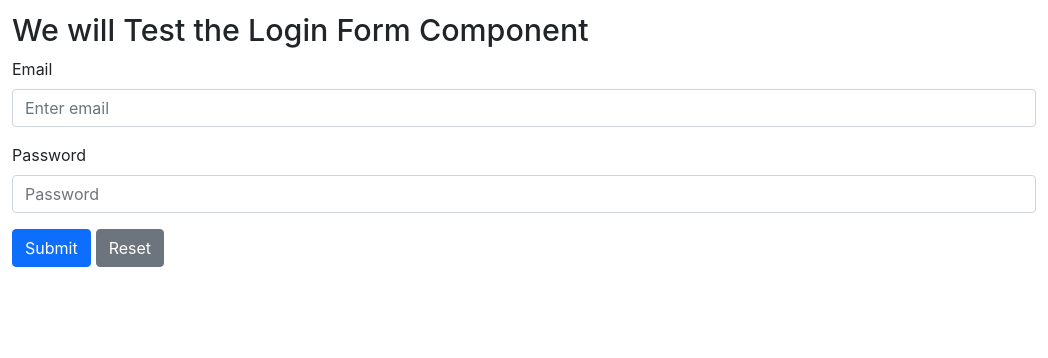
Test: Test the Login Component › should give error on incorrect email
The width and height of the screenshot is (1048, 358).
Type "hirvenitin.com" into the field with placeholder "Enter email" at coordinates (524, 108), box [12,88,1036,126]
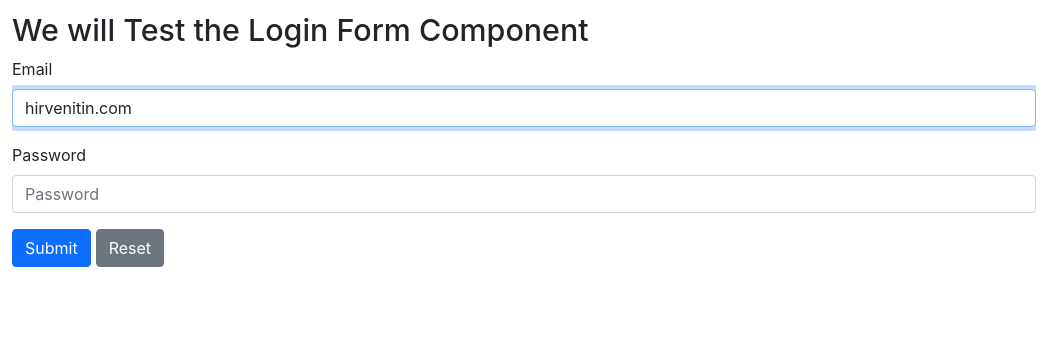
Type "123" into the password field with placeholder "Password" at coordinates (524, 194), box [12,174,1036,212]
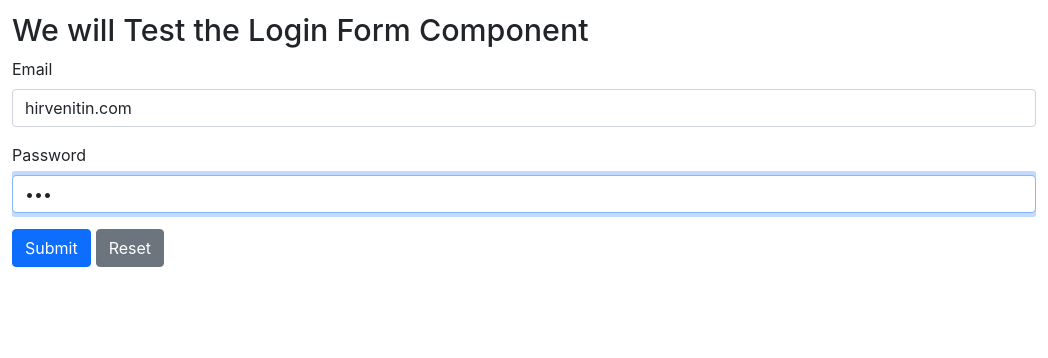
Click the button with test id "submit" at coordinates (51, 248), box [12,228,91,266]
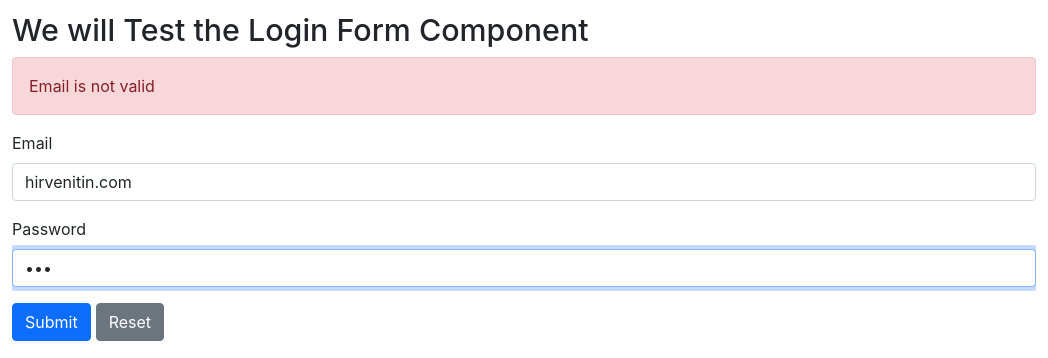
Check: the text "Email is not valid" is shown, box [12,56,1036,114]
